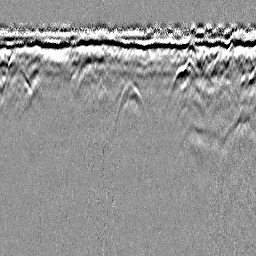cavity: (114, 80, 147, 126)
